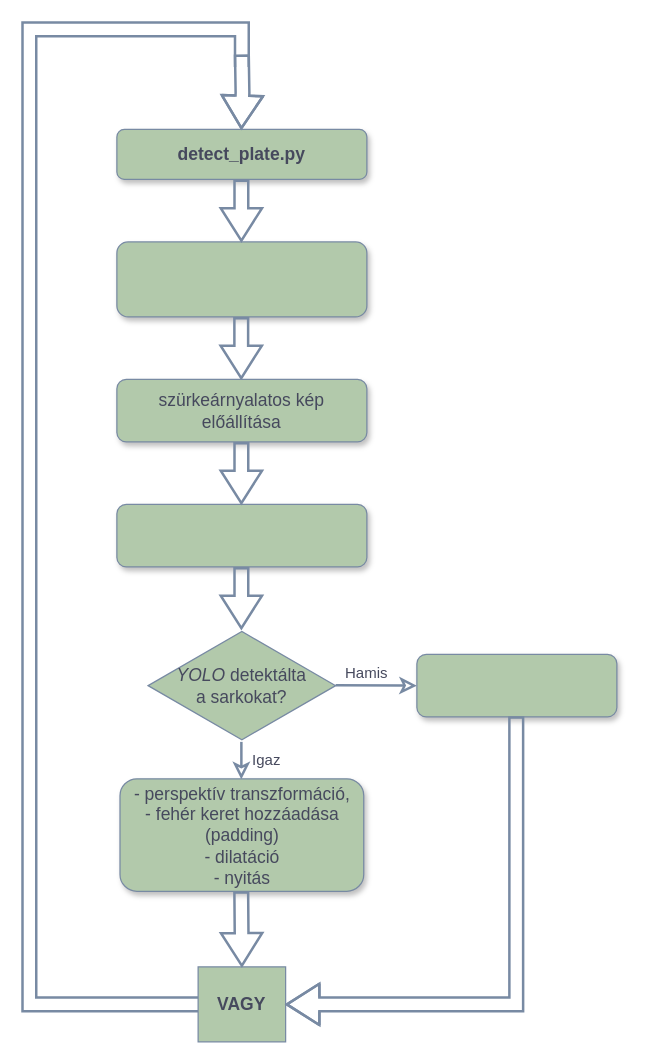
This 646x1064 diagram has some shape labels left out. The centre of each missing label's shape, as x and y in pixels:
"binarizálás (Otsu)" goes at point 242,537.
"perspektív korrekció, vágás, sztenderdizálás" goes at point 242,281.
"szürkeárnyalatos kép" goes at point 517,687.
